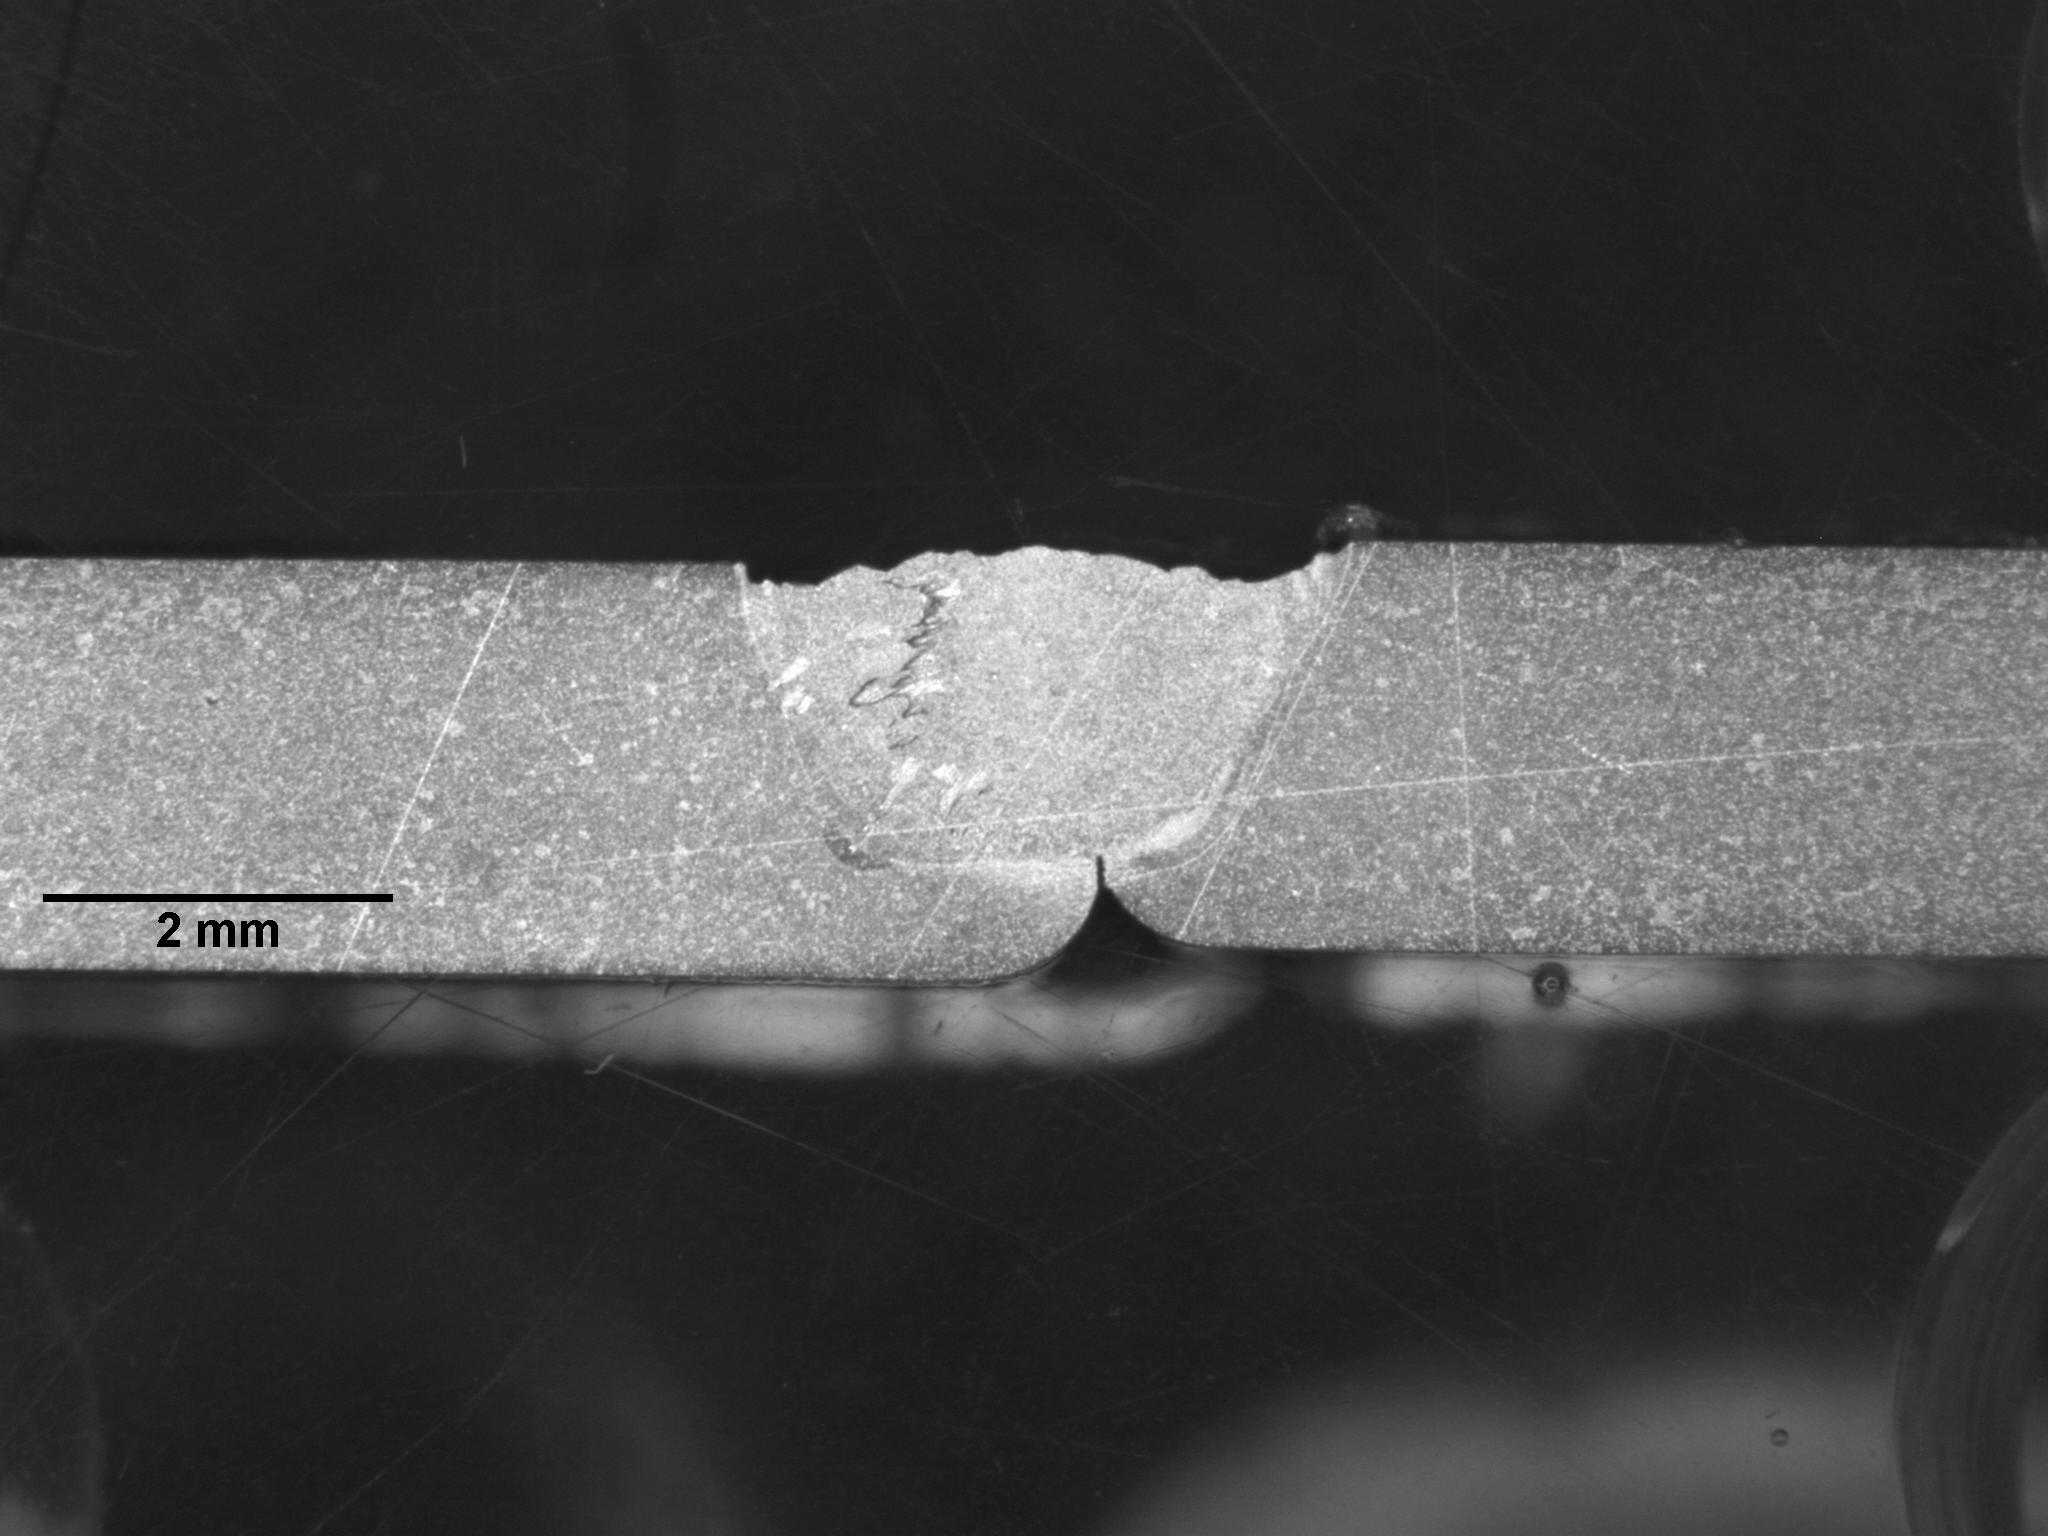Scale-bar: (32, 884, 405, 954)
